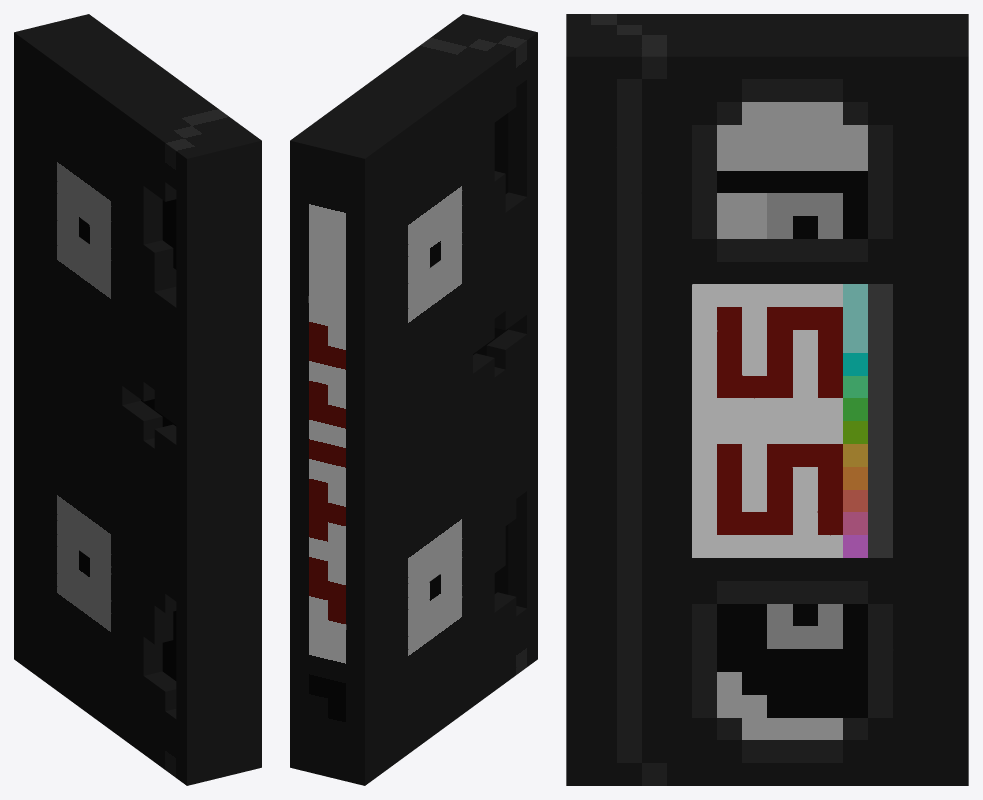
File: VHS01.fbx
3 renders of one model, left to right at view 1: azimuth 30°, elevation 25°; view 2: azimuth 150°, elevation 25°; view 3: azimuth 270°, elevation 25°, orthographic. The views are drawn at different scales.
Parts seen in each view (by area): view 1: Matrix; view 2: Matrix; view 3: Matrix.
Part boxes in pixels (x1=…): Matrix: x1=14, y1=14, x2=261, y2=785; Matrix: x1=290, y1=14, x2=537, y2=785; Matrix: x1=566, y1=14, x2=968, y2=785.
Bounding box in the file's own units: 4 × 32 × 16.
